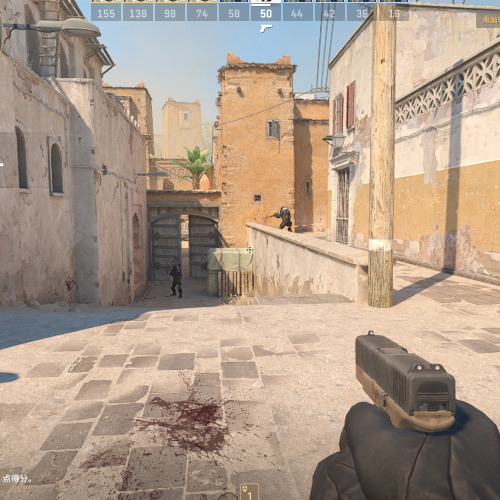ct_body: (170, 265, 183, 298), (278, 206, 292, 232)
ct_head: (280, 205, 287, 211), (172, 265, 178, 271)
